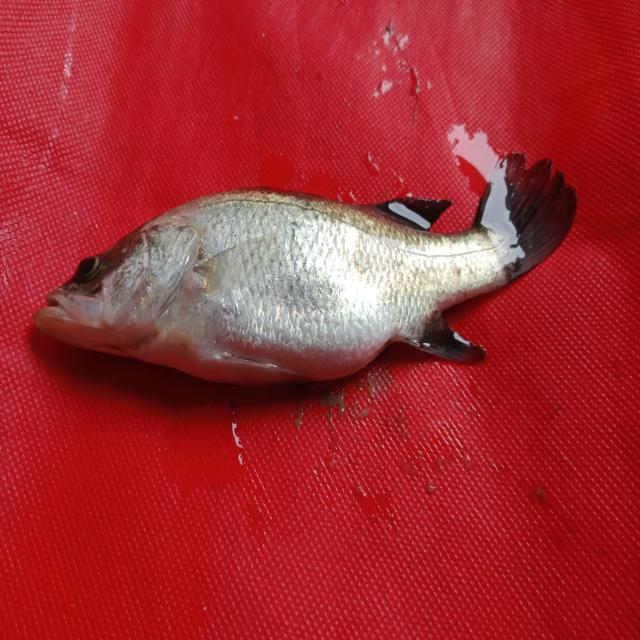ikan: (22, 115, 598, 408)
